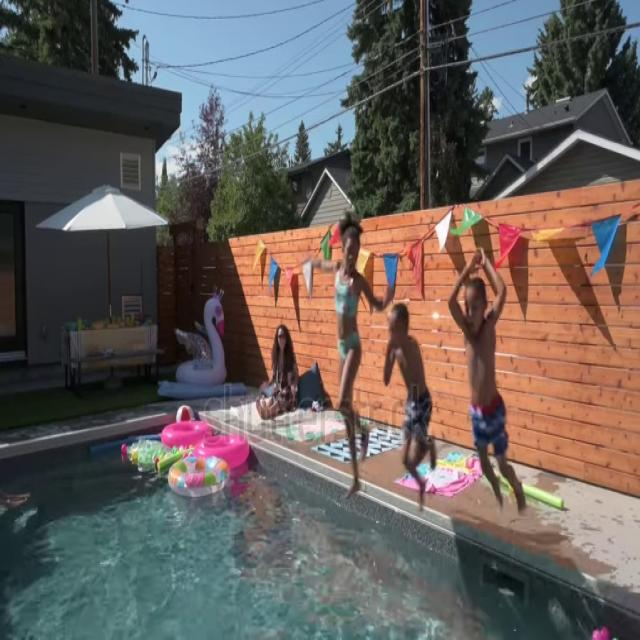adult: (259, 310, 300, 417)
child: (448, 241, 527, 511), (319, 208, 375, 484), (379, 294, 434, 502)
